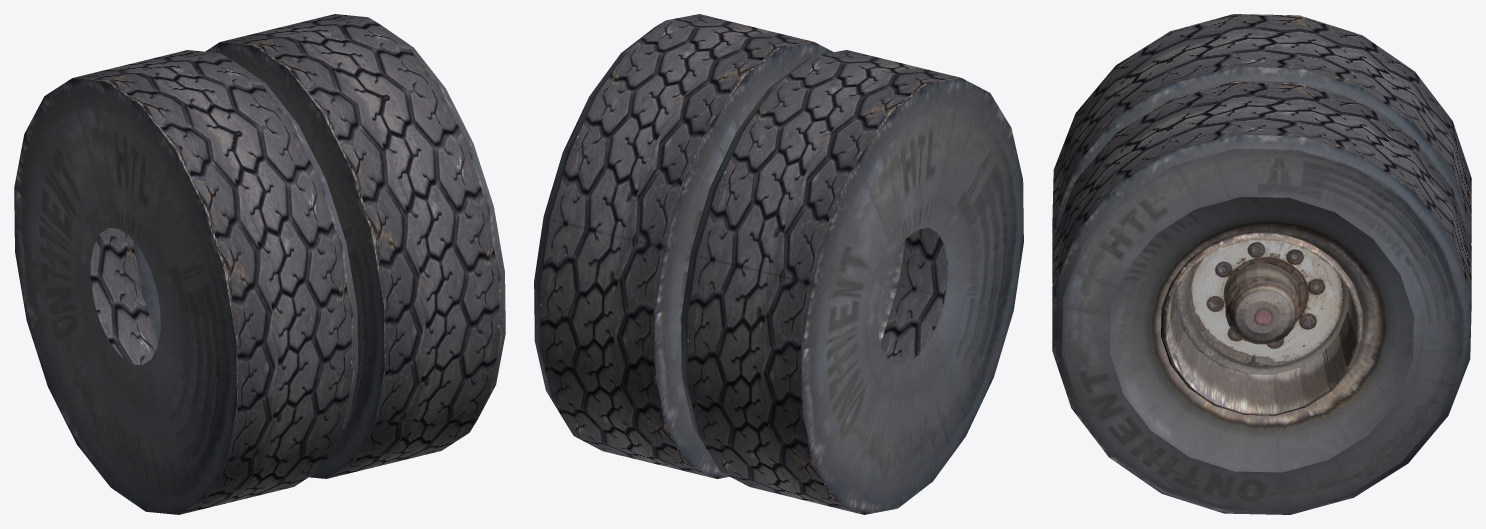
Rendered from WheelBack.fbx.
3 renders of one model, left to right at view 1: azimuth 30°, elevation 25°; view 2: azimuth 150°, elevation 25°; view 3: azimuth 270°, elevation 25°, orthographic. The views are drawn at different scales.
Visible parts, largest first — view 1: Wheel2; view 2: Wheel2; view 3: Wheel2.
Part boxes in pixels (<box>): Wheel2: <box>14,14,505,514</box>; Wheel2: <box>534,14,1023,514</box>; Wheel2: <box>1052,14,1471,514</box>.
Bounding box in the file's own units: 0.0146 × 0.0198 × 0.0198.
